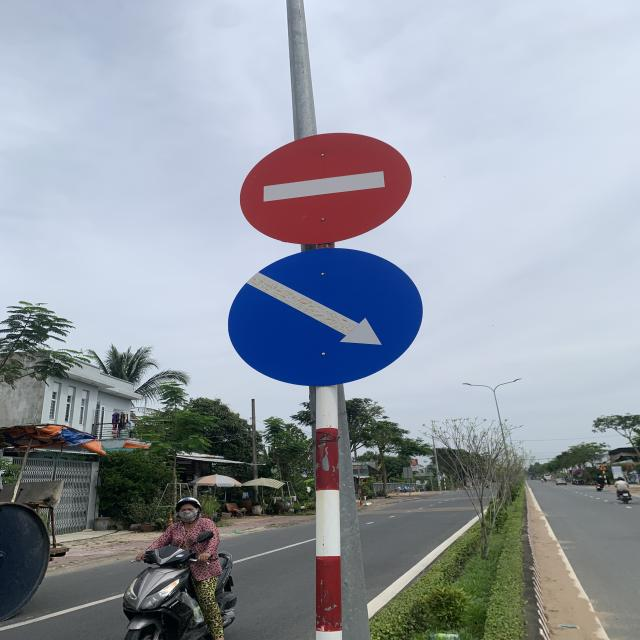Cam_Di_Nguoc_Chieu: (240, 132, 412, 246)
Chi_Huong_Di_Phai: (230, 248, 426, 386)
